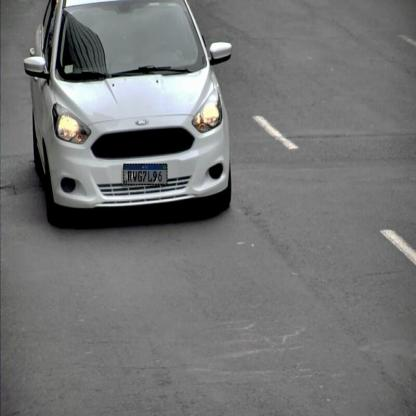PlacaM: (124, 164, 167, 185)
